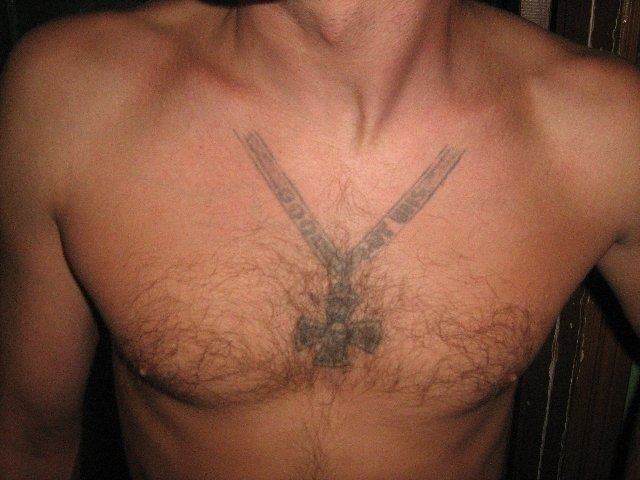tatu9_krest: (275, 261, 415, 402)
